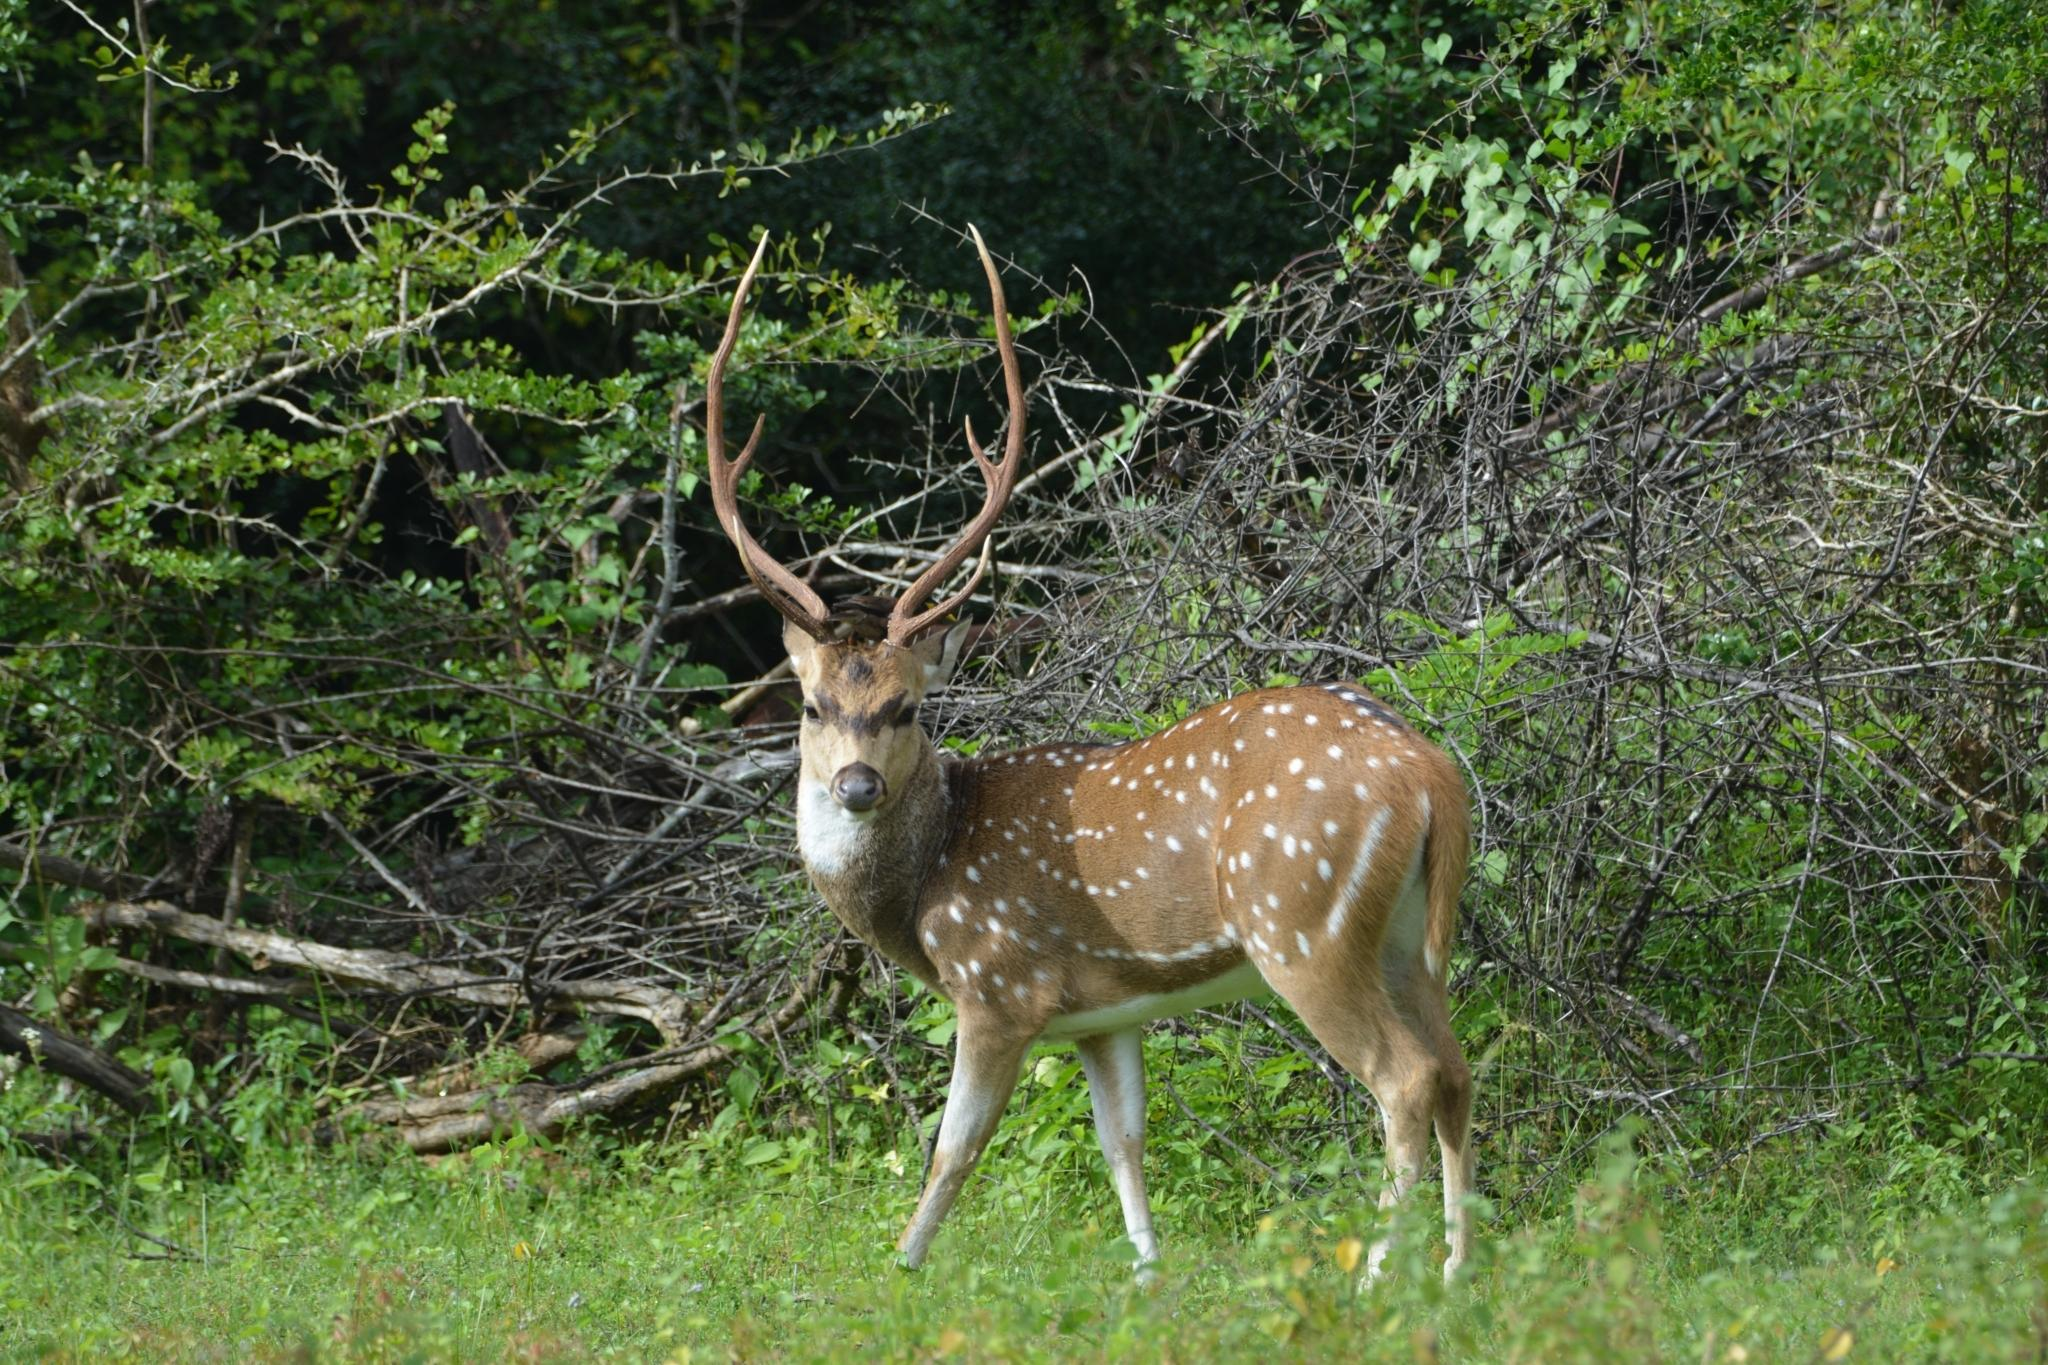Deer: (705, 233, 1469, 1277)
